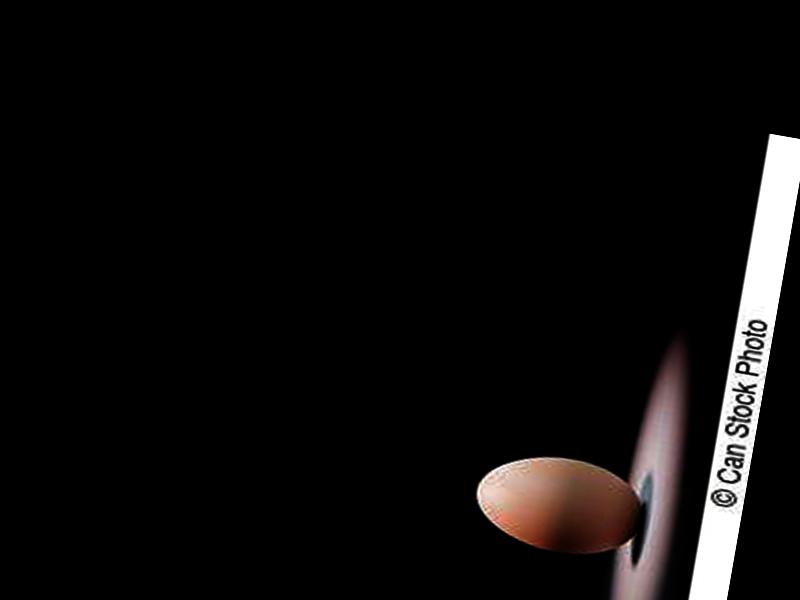Eggs: (469, 443, 651, 568)
